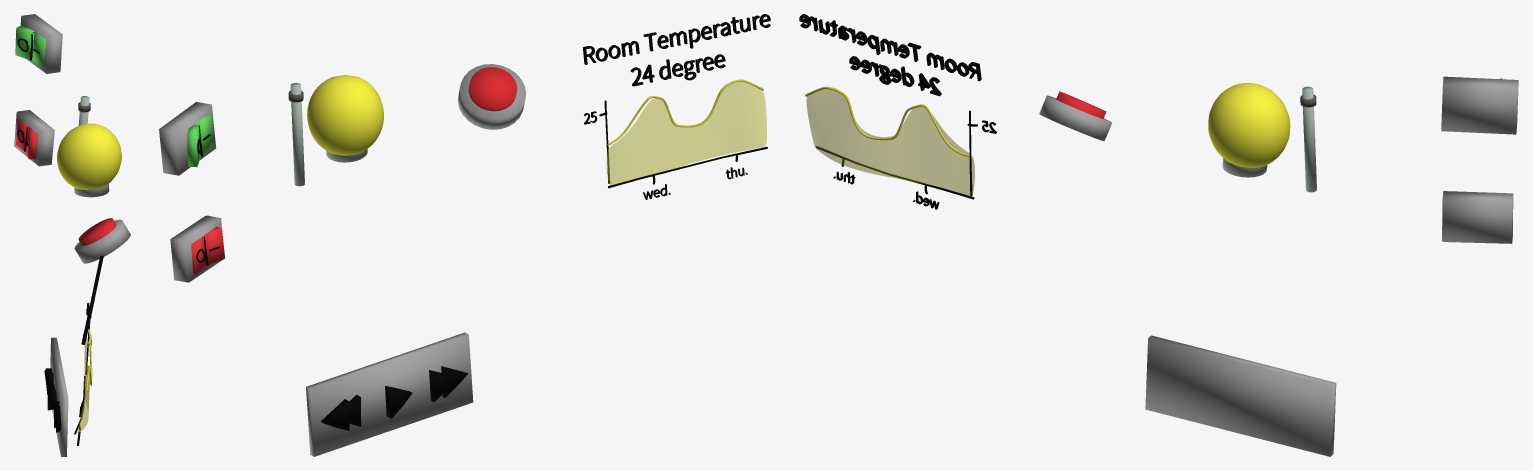
Rendered from immersive_home.obj.
3 views of the same model, side by side, from view 1: azimuth 30°, elevation 25°; view 2: azimuth 150°, elevation 25°; view 3: azimuth 270°, elevation 25° (orthographic). The views are drawn at different scales.
Parts seen in each view (by area): view 1: immersive_home; view 2: immersive_home; view 3: immersive_home.
Part boxes in pixels (x1,y1,x2,y2): immersive_home: [14, 14, 130, 456]; immersive_home: [159, 14, 770, 456]; immersive_home: [799, 14, 1518, 456].
Size of the model in its own units: 48.34 by 62.09 by 100.
